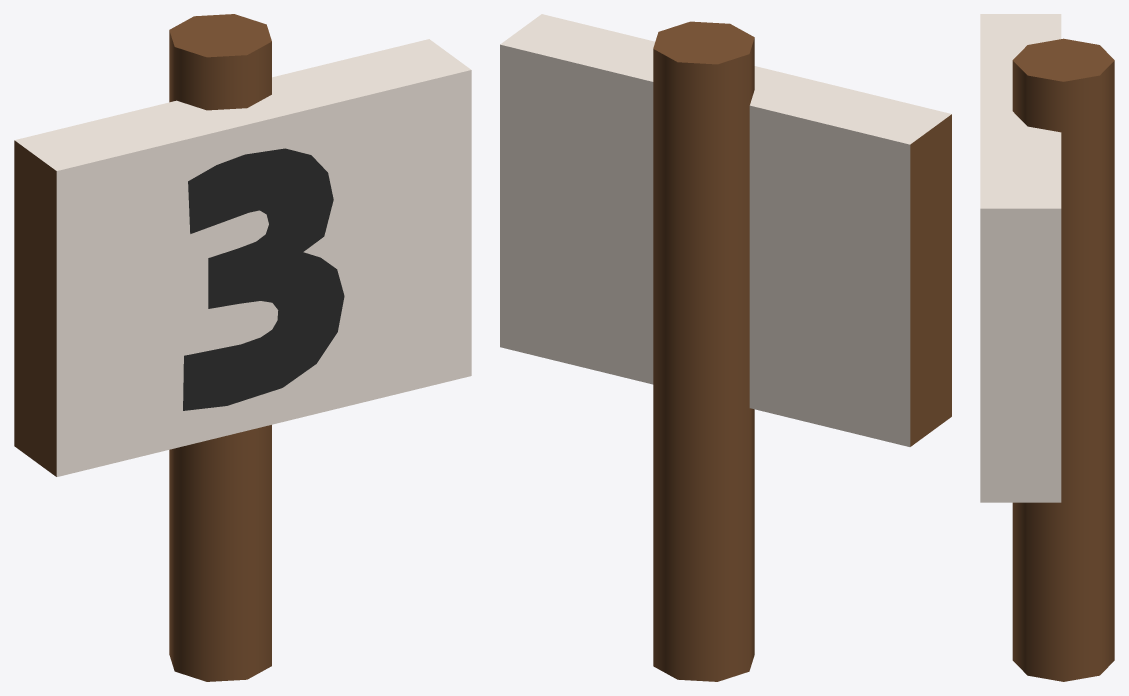
File: nameplate_03.FBX
3 views of the same model, side by side, from view 1: azimuth 30°, elevation 25°; view 2: azimuth 150°, elevation 25°; view 3: azimuth 270°, elevation 25° (orthographic). The views are drawn at different scales.
Parts seen in each view (by area): view 1: nameplate_03; view 2: nameplate_03; view 3: nameplate_03.
Boxes of the visible parts, bbox=[...] form: nameplate_03: bbox=[14, 14, 471, 681]; nameplate_03: bbox=[500, 14, 951, 681]; nameplate_03: bbox=[980, 14, 1114, 681].
Bounding box in the file's own units: 234 × 68.55 × 337.
Materials: 1 (1 with a texture image).
